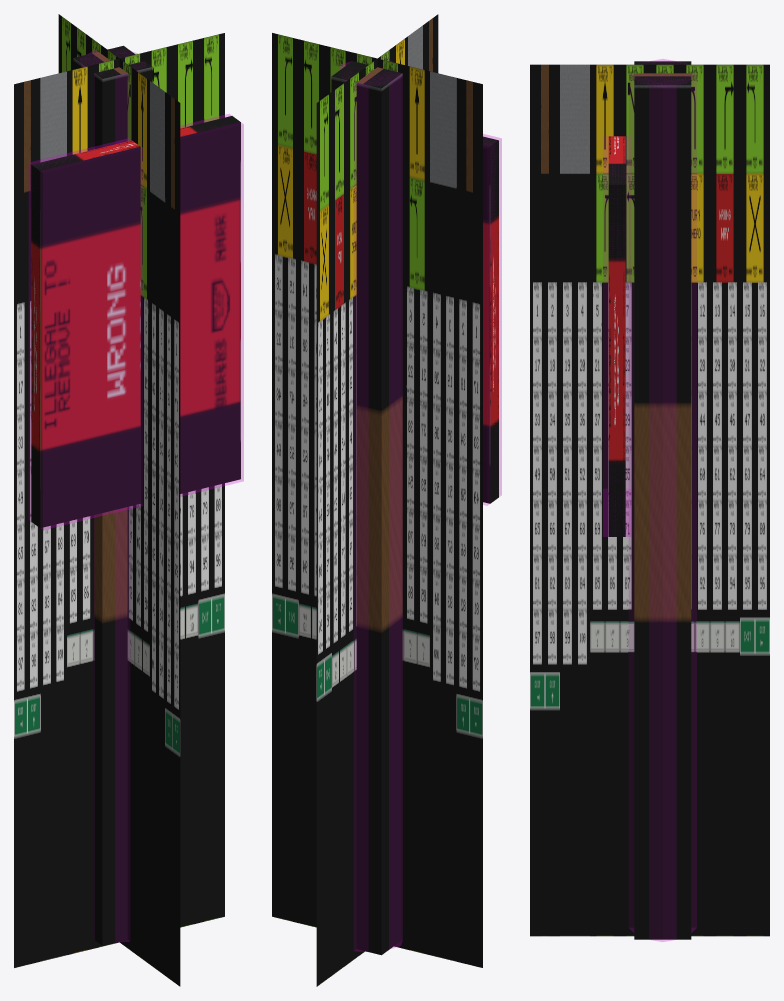
The model's file is sign_wrong_way.dae.
3 renders of one model, left to right at view 1: azimuth 30°, elevation 25°; view 2: azimuth 150°, elevation 25°; view 3: azimuth 270°, elevation 25°, orthographic.
Visible parts, largest first — view 1: sign_wrong_way_a50, sign_wrong_way_a800, Colmesh_sign-1, Colmesh_post-1, sign_wrong_way_a200; view 2: sign_wrong_way_a50, sign_wrong_way_a800, Colmesh_post-1, sign_wrong_way_a200, Colmesh_sign-1; view 3: sign_wrong_way_a50, sign_wrong_way_a800, Colmesh_post-1, Colmesh_sign-1.
Boxes of the visible parts, x1,y1,x2,y2 form: sign_wrong_way_a50: (14,14,224,986); sign_wrong_way_a800: (31,45,240,945); Colmesh_sign-1: (29,114,243,529); Colmesh_post-1: (81,49,138,941); sign_wrong_way_a200: (94,52,151,944); sign_wrong_way_a50: (272,14,482,986); sign_wrong_way_a800: (331,61,498,955); Colmesh_post-1: (339,59,402,951); sign_wrong_way_a200: (349,63,402,950); Colmesh_sign-1: (483,134,501,505); sign_wrong_way_a50: (530,64,769,936); sign_wrong_way_a800: (608,61,691,939); Colmesh_post-1: (629,59,696,941); Colmesh_sign-1: (603,137,630,536).
Bounding box in the file's own units: 0.42 × 0.42 × 1.68.
2 materials, 1 textured.
